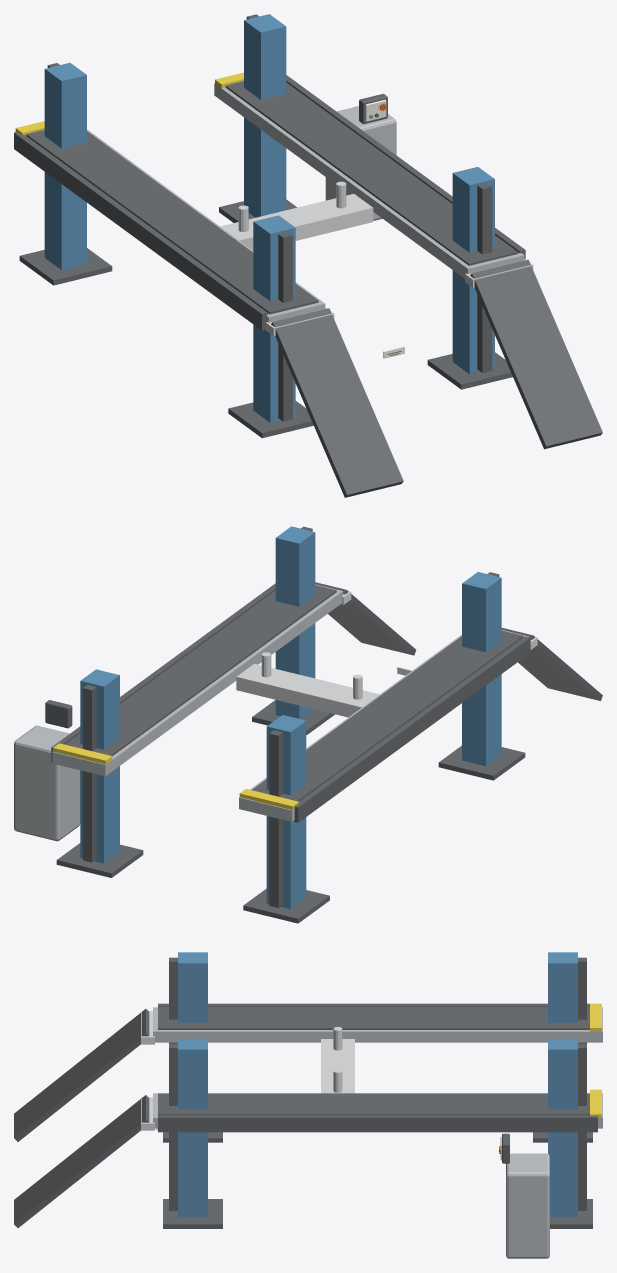
Rendered from car-repair-garage-and-mot-workshop-car-repair-garage-a-5f68fddb__34001.glb.
3 renders of one model, top to bottom at view 1: azimuth 30°, elevation 25°; view 2: azimuth 150°, elevation 25°; view 3: azimuth 270°, elevation 25°, orthographic. The views are drawn at different scales.
Parts seen in each view (by area): view 1: car-repair-garage-and-mot-workshop-four-post-vehicle-lift; view 2: car-repair-garage-and-mot-workshop-four-post-vehicle-lift; view 3: car-repair-garage-and-mot-workshop-four-post-vehicle-lift.
Boxes of the visible parts, bbox=[...] form: car-repair-garage-and-mot-workshop-four-post-vehicle-lift: bbox=[14, 14, 602, 497]; car-repair-garage-and-mot-workshop-four-post-vehicle-lift: bbox=[14, 526, 602, 923]; car-repair-garage-and-mot-workshop-four-post-vehicle-lift: bbox=[14, 952, 602, 1258].
Bounding box in the file's own units: 3.4 × 1.9 × 5.89.
